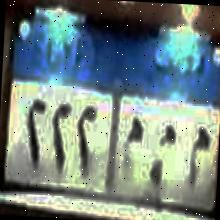2: (46, 99, 73, 178), (72, 101, 99, 178), (22, 92, 46, 174)
meem: (116, 113, 144, 192), (184, 123, 210, 189), (152, 116, 176, 186)
